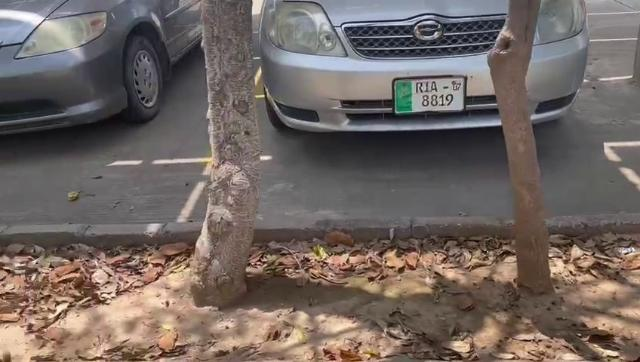plate: (390, 76, 466, 114)
